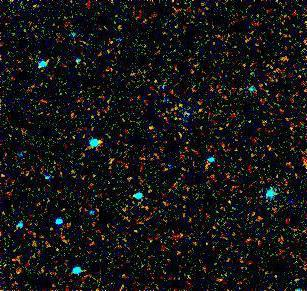star: (139, 113, 169, 143)
